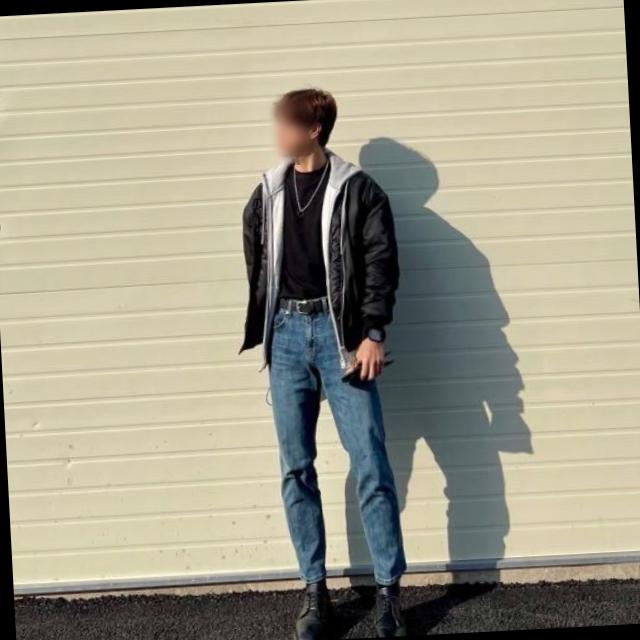denimpants: (266, 289, 409, 590)
jacket: (228, 154, 403, 365)
zipup: (254, 148, 372, 382)
